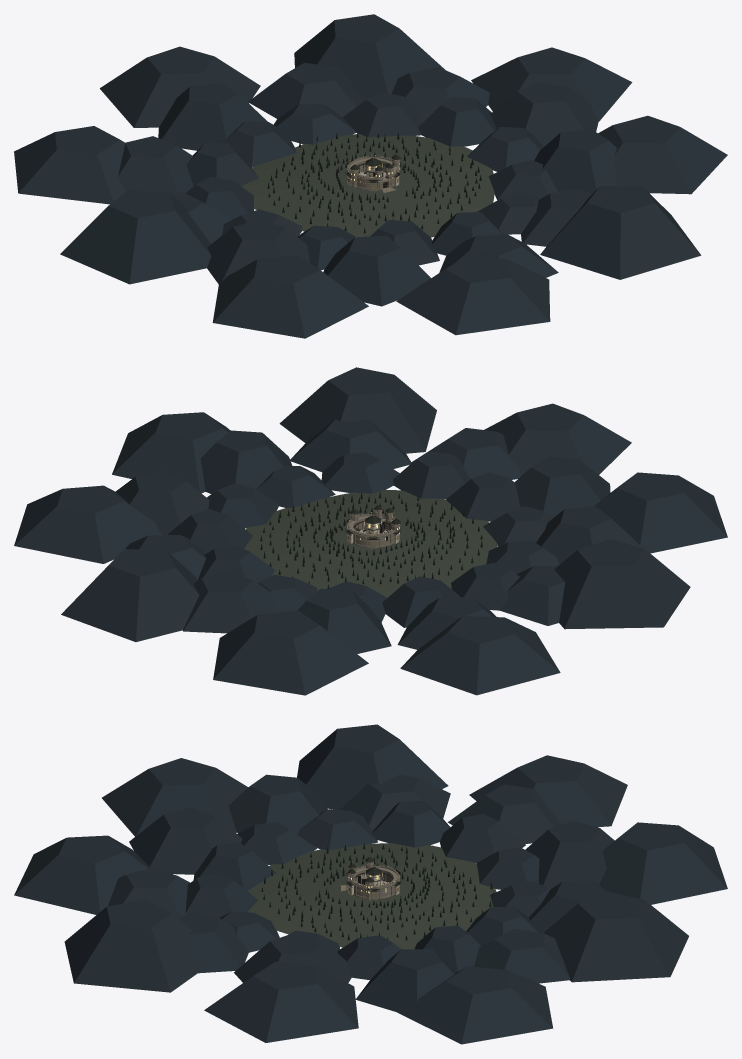
The model's file is citadel.glb.
3 views of the same model, one above another, from view 1: azimuth 30°, elevation 25°; view 2: azimuth 150°, elevation 25°; view 3: azimuth 270°, elevation 25° (orthographic).
Parts seen in each view (by area): view 1: Ridges, Terrain, Forest; view 2: Ridges, Terrain, Forest, Ring wall; view 3: Ridges, Terrain, Forest, Ring wall.
Part boxes in pixels (left/top/right/bottom): Ridges: left=14, top=14, right=727, bottom=338; Terrain: left=241, top=134, right=494, bottom=237; Forest: left=267, top=132, right=481, bottom=233; Ridges: left=14, top=367, right=727, bottom=695; Terrain: left=244, top=490, right=497, bottom=597; Forest: left=260, top=492, right=482, bottom=588; Ring wall: left=349, top=515, right=394, bottom=546; Ridges: left=14, top=724, right=727, bottom=1044; Terrain: left=247, top=843, right=496, bottom=949; Forest: left=261, top=843, right=494, bottom=940; Ring wall: left=351, top=867, right=397, bottom=897.
Bounding box in the file's own units: 425 × 30.78 × 436.
Materials: 4 (4 with a texture image).
